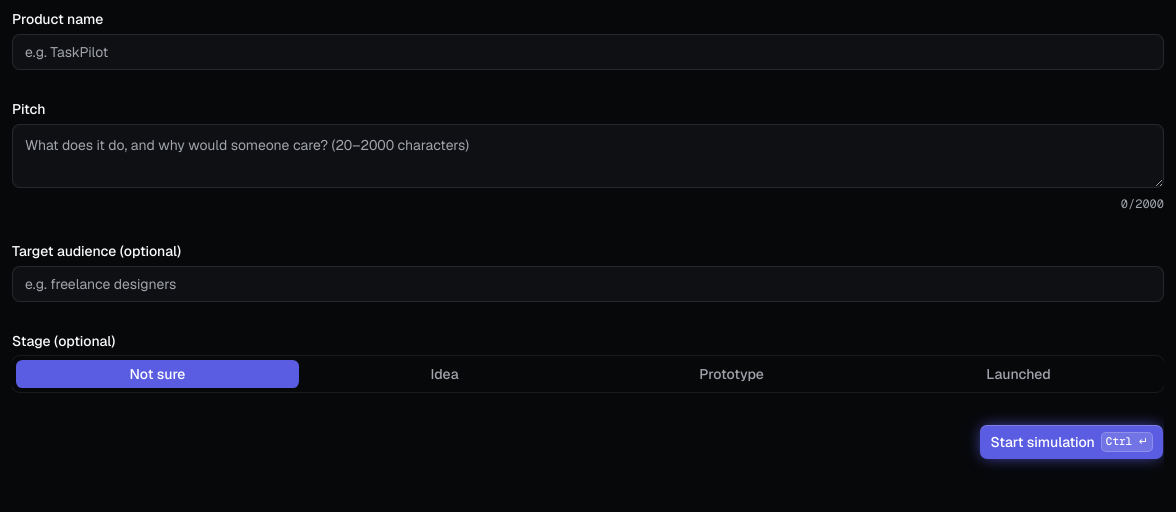
Test: PitchForm › shows field errors and does not navigate on an empty submit
The width and height of the screenshot is (1176, 512).
Click the button "Start simulation Ctrl ↵" at (1072,442), box [980, 424, 1164, 460]
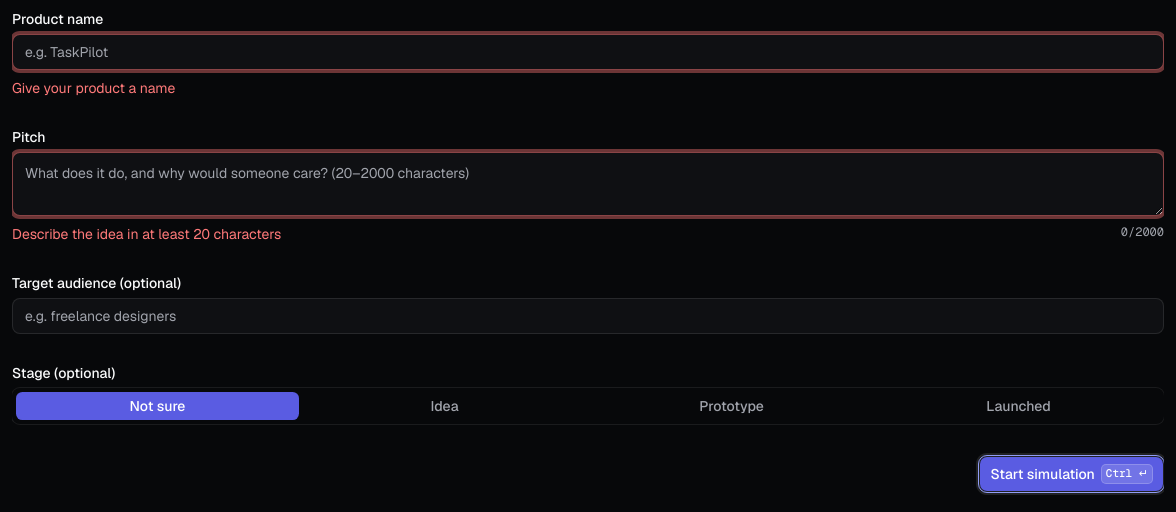
Result: the text "Give your product a name" is shown at [12, 79, 175, 97]
